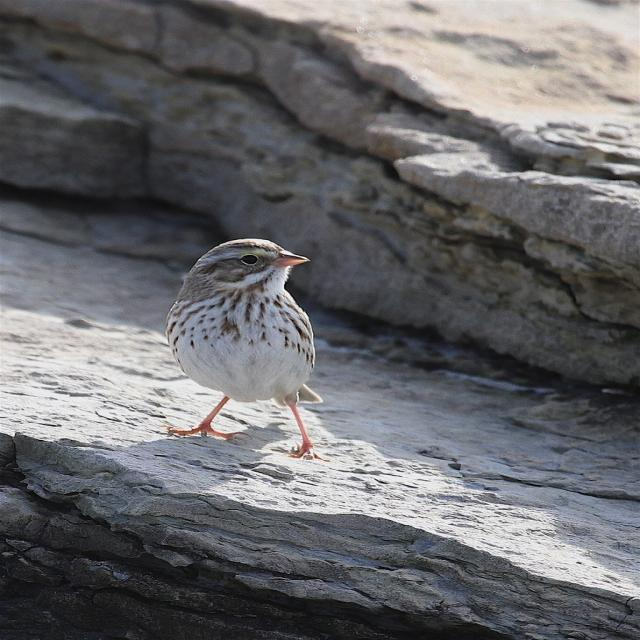bird: (162, 234, 320, 462)
